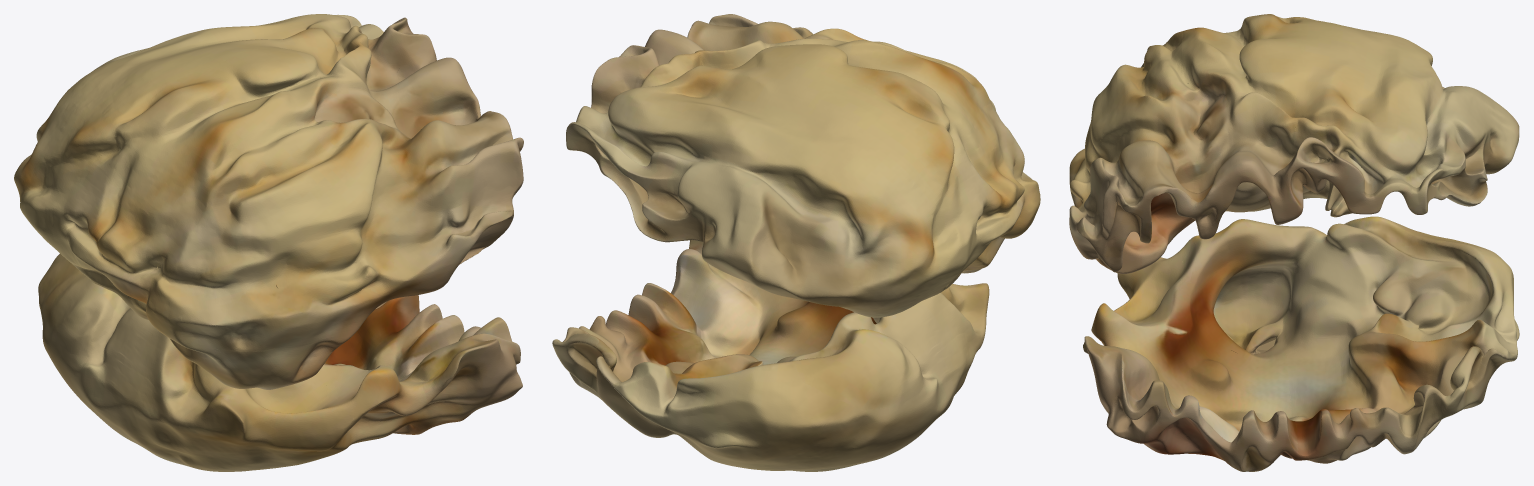
File: Saccostrea Cucullata.glb
The picture shows the model from 3 angles, left to right: view 1: azimuth 30°, elevation 25°; view 2: azimuth 150°, elevation 25°; view 3: azimuth 270°, elevation 25°; orthographic projection. The views are drawn at different scales.
Visible parts, largest first — view 1: tripo_node_98612e3d-1304-49b7-acaa-4027236f9c5f; view 2: tripo_node_98612e3d-1304-49b7-acaa-4027236f9c5f; view 3: tripo_node_98612e3d-1304-49b7-acaa-4027236f9c5f.
Part boxes in pixels (x1=…): tripo_node_98612e3d-1304-49b7-acaa-4027236f9c5f: x1=14, y1=14, x2=523, y2=471; tripo_node_98612e3d-1304-49b7-acaa-4027236f9c5f: x1=552, y1=14, x2=1040, y2=471; tripo_node_98612e3d-1304-49b7-acaa-4027236f9c5f: x1=1069, y1=14, x2=1519, y2=471.
Size of the model in its own units: 0.9425 by 0.9408 by 1.
Materials: 1 (1 with a texture image).
